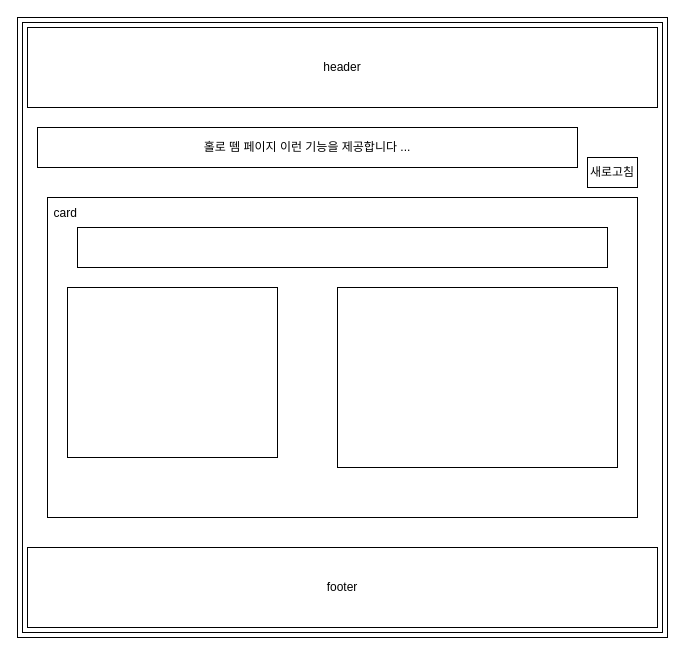
Some shapes in this 685 by 655 pixel diagram are drawn without their labels. The centre of each missing label's shape, as x and y in pixels:
"content" goes at [477,377].
"image" goes at [172,372].
"title" goes at [342,247].
